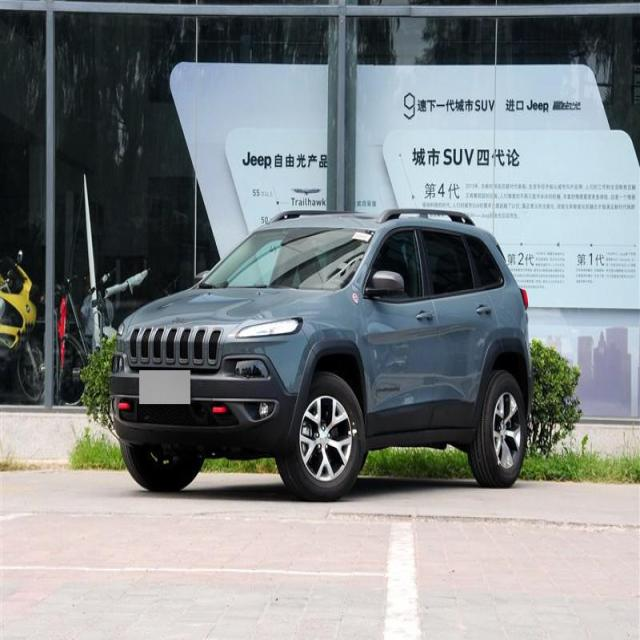back_left_side_light: (515, 281, 530, 313)
door: (419, 227, 499, 434)
front_bumper: (108, 354, 299, 452)
front_glass: (194, 226, 372, 291)
front_left_side_door: (360, 223, 441, 438)
front_left_side_light: (237, 316, 306, 345)
front_left_side_mirror: (370, 269, 408, 301)
wheel: (278, 374, 364, 494), (467, 372, 526, 484), (119, 438, 204, 492)
